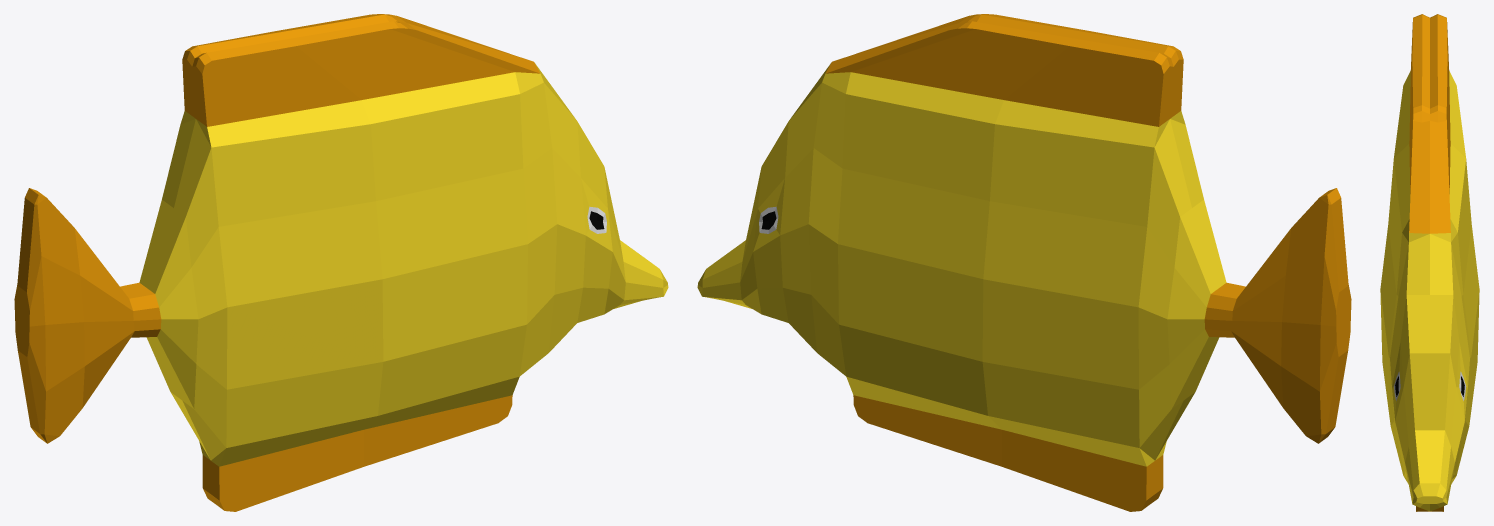
Rendered from Dorada.fbx.
The picture shows the model from 3 angles, left to right: view 1: azimuth 30°, elevation 25°; view 2: azimuth 150°, elevation 25°; view 3: azimuth 270°, elevation 25°; orthographic projection. The views are drawn at different scales.
Parts seen in each view (by area): view 1: Cube; view 2: Cube; view 3: Cube.
Part boxes in pixels (x1,y1,x2,y2): Cube: [14, 14, 668, 511]; Cube: [697, 14, 1351, 511]; Cube: [1380, 14, 1479, 511].
Size of the model in its own units: 435 by 301 by 68.19.
